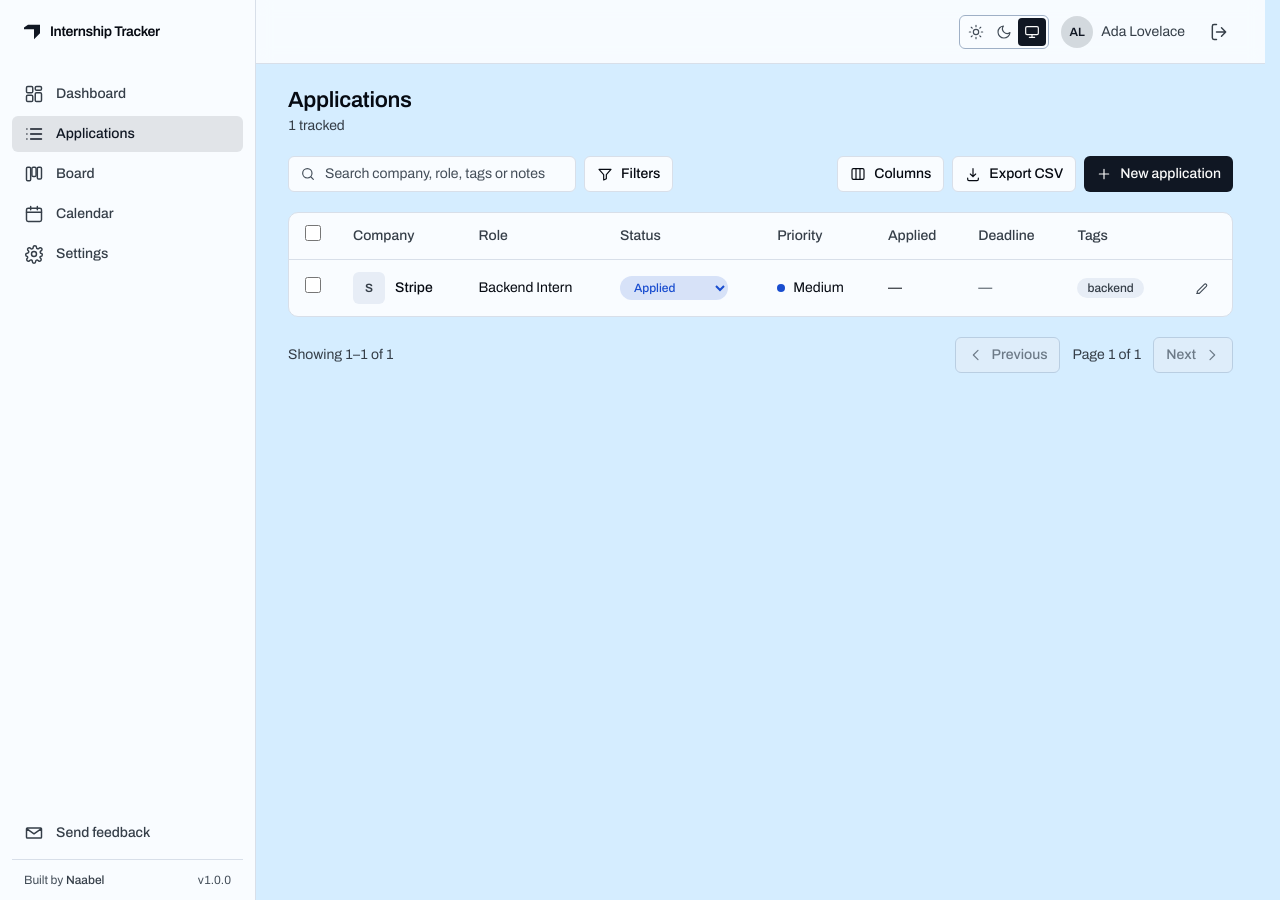
Scenario: version conflict UI › retries without a version when the user chooses to overwrite
The image size is (1280, 900).
Expected: the link "S Stripe" is shown, [353, 272, 433, 304]
Click the button named "Edit Stripe" at (1202, 288), box [1188, 274, 1216, 302]
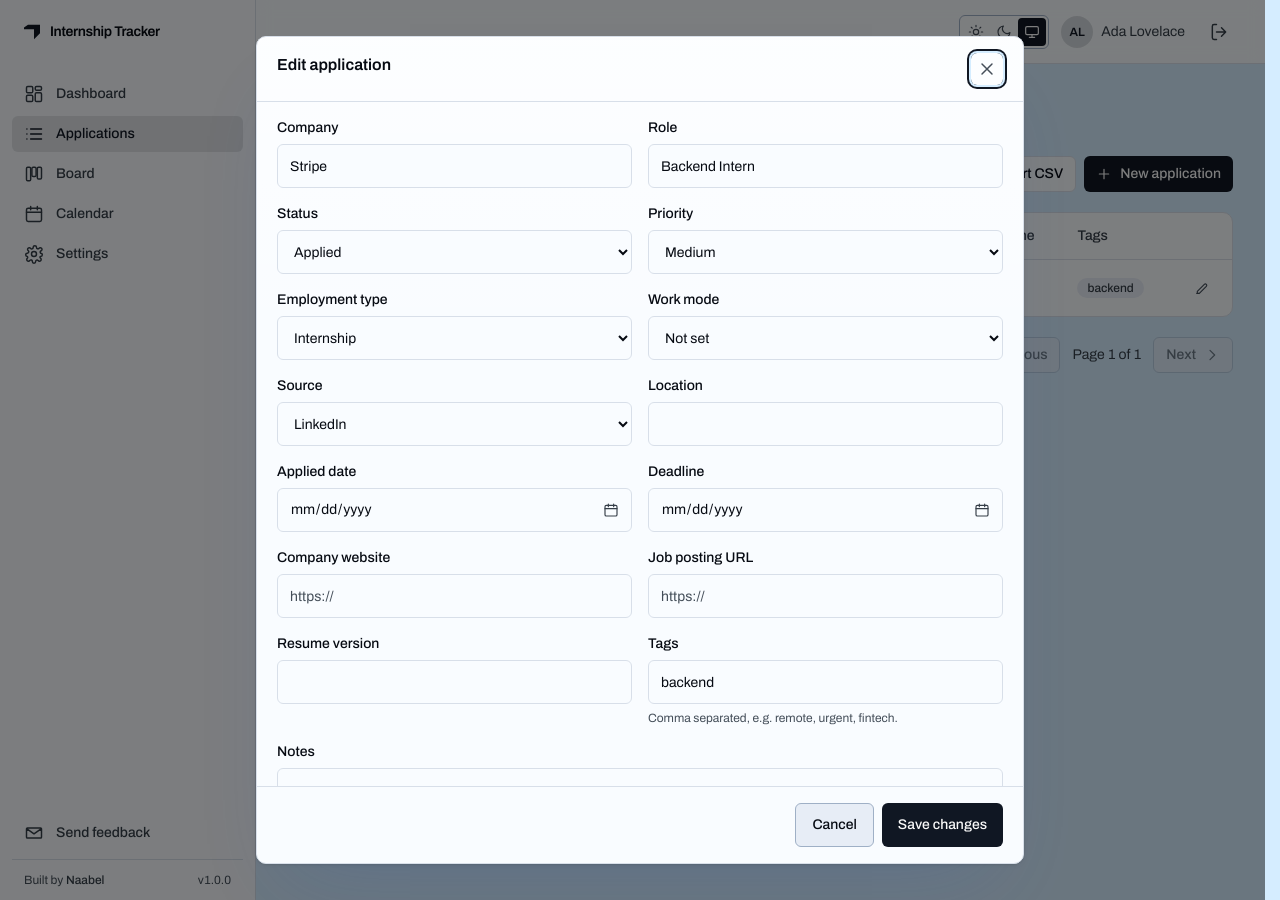
Replace the text in the field labelled "Role" with "Backend Engineer Intern" at (826, 166), box [648, 144, 1003, 188]
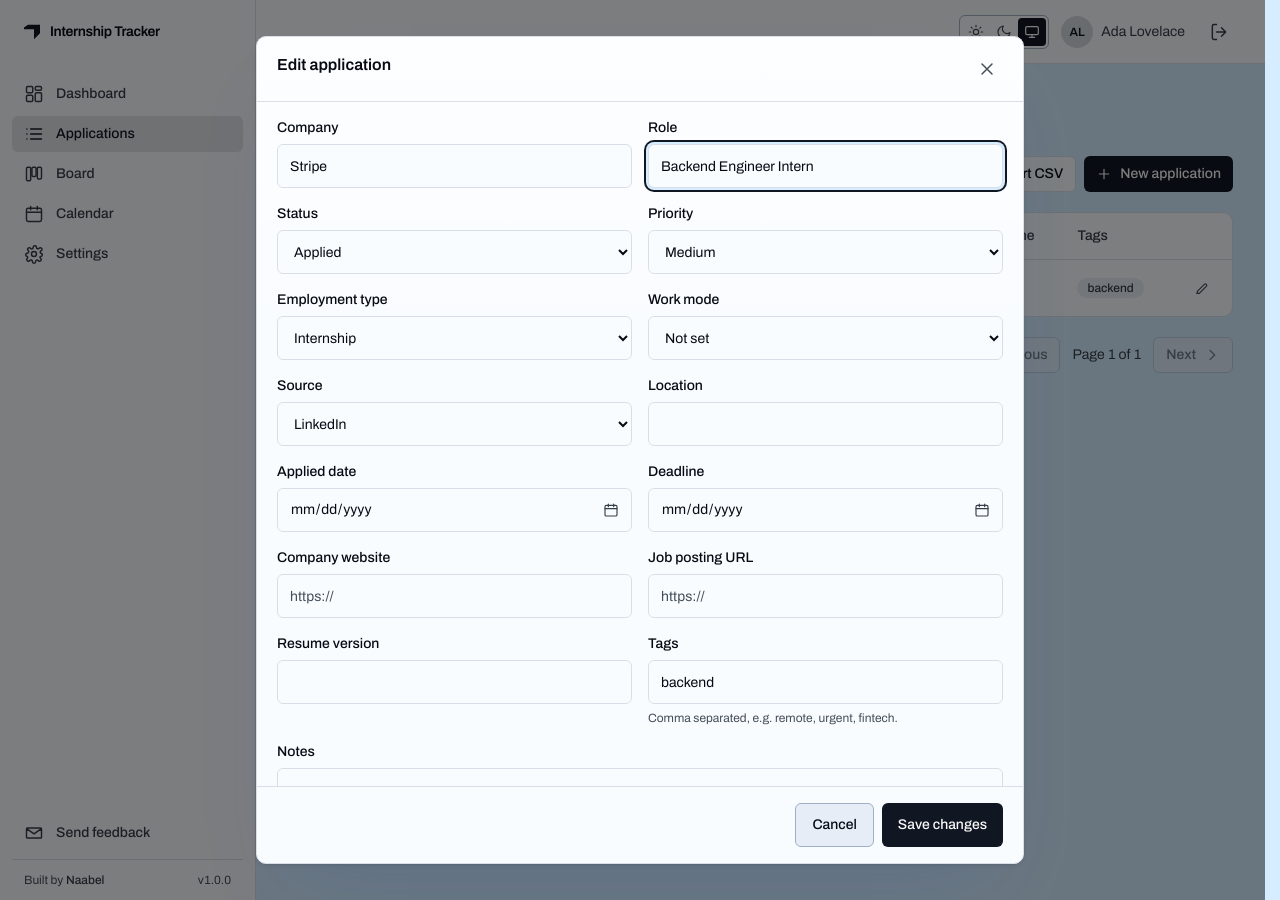
Click the button "Save changes" at (942, 825), box [882, 803, 1003, 847]
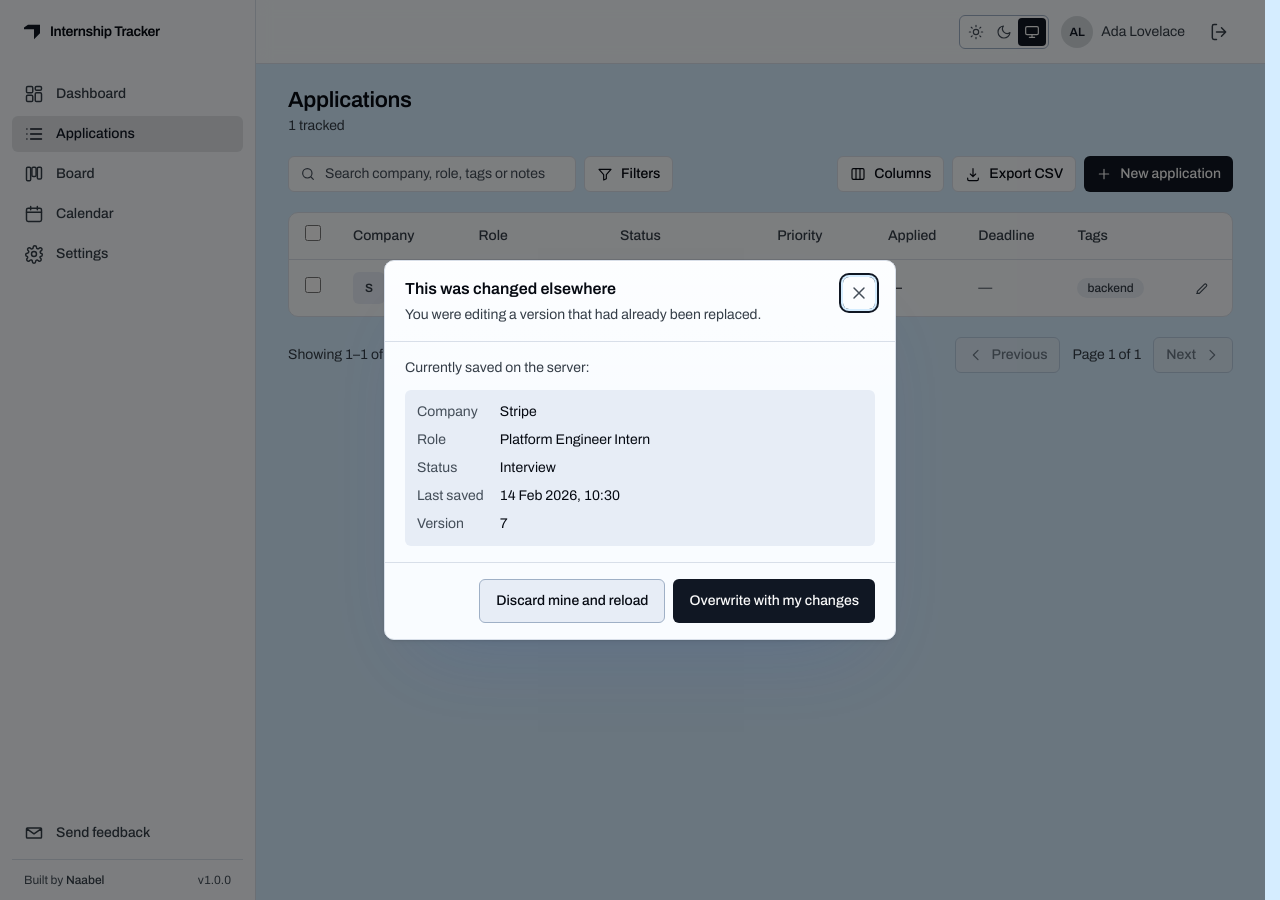
Click the button "Overwrite with my changes" at (774, 601), box [674, 579, 875, 623]
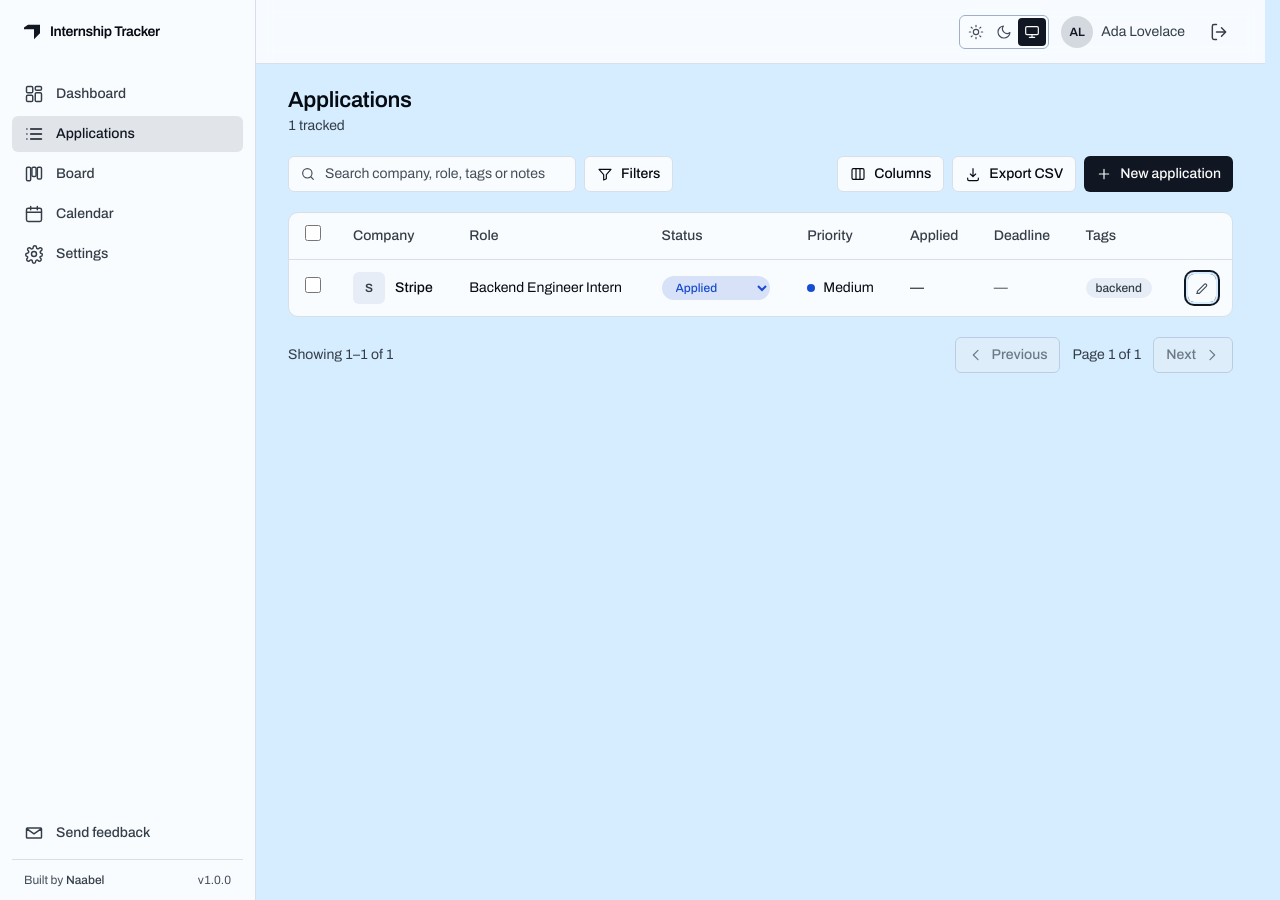
Expected: the cell "Backend Engineer Intern" is shown, [453, 260, 646, 316]
